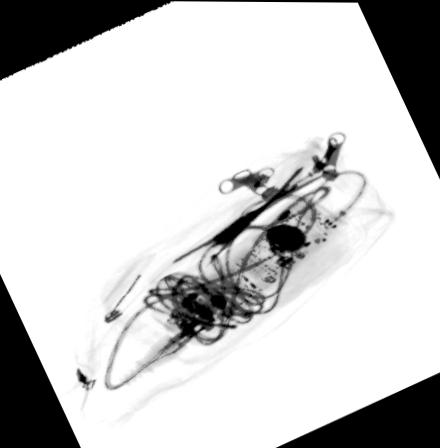Scissors: (148, 143, 335, 281)
